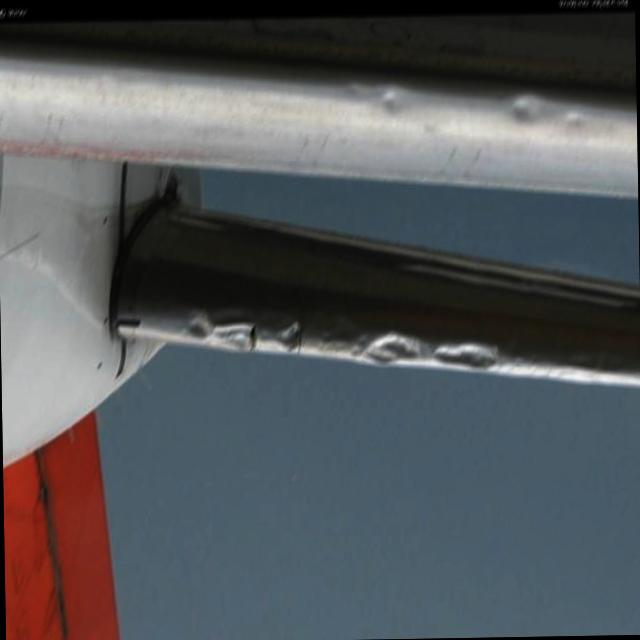dent: (182, 302, 503, 379)
